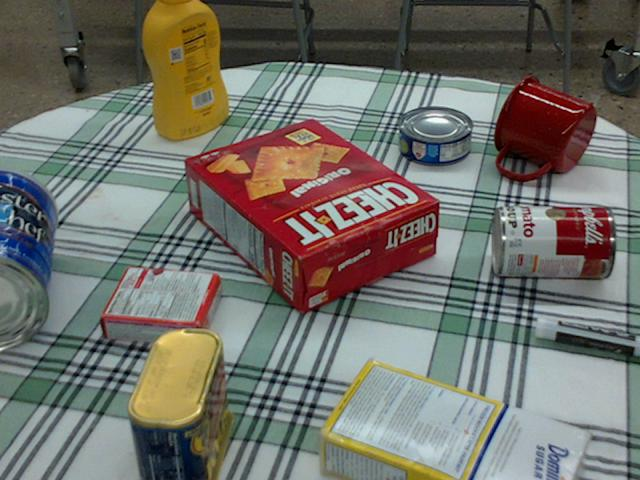cracker_box: (183, 117, 436, 312)
gelatin_box: (101, 264, 220, 347)
large_marker: (535, 315, 639, 357)
master_chef_can: (0, 166, 54, 350)
mug: (493, 75, 595, 180)
mustard_bottle: (143, 0, 228, 139)
potted_meat_can: (125, 326, 231, 479)
sugar_box: (312, 362, 589, 479)
tomato_soup_can: (491, 204, 614, 278)
tuna_fish_can: (399, 107, 473, 164)
